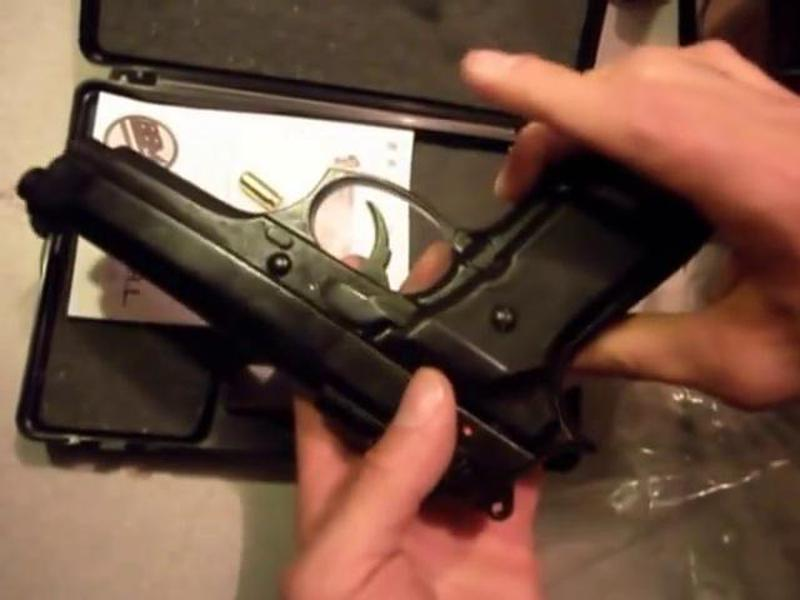Pistola: (37, 121, 725, 493)
